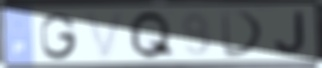9: (180, 11, 214, 58)
D: (219, 9, 267, 59)
G: (38, 11, 80, 61)
J: (272, 9, 307, 56)
Q: (127, 10, 178, 60)
V: (82, 10, 127, 60)
